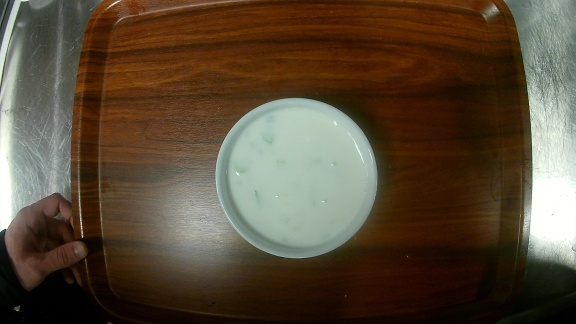cacik: (215, 98, 380, 259)
